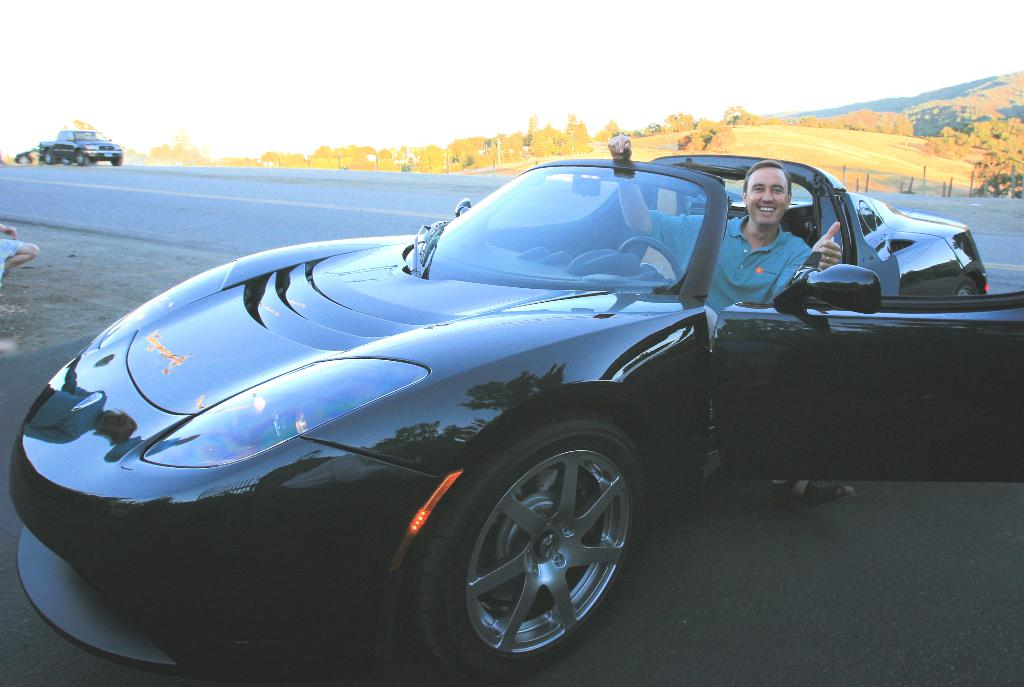Car: (8, 153, 1024, 687)
